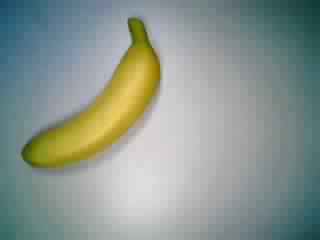banana: (12, 16, 163, 168)
